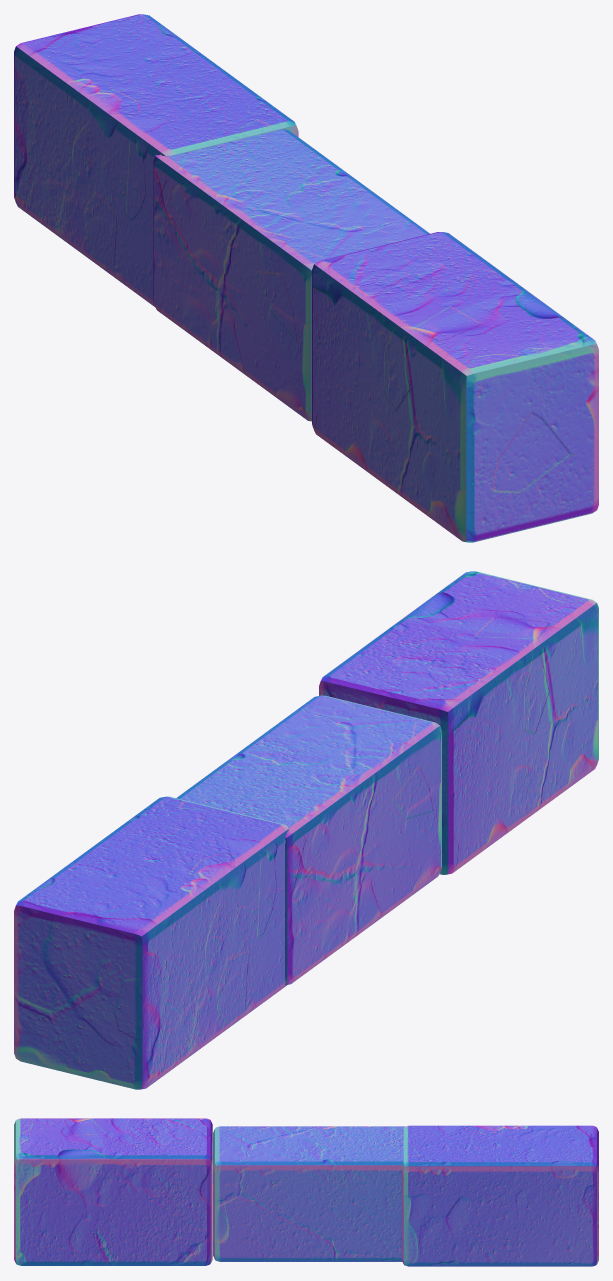
File: Dungeon_CeilingWallGlue.fbx
3 views of the same model, one above another, from view 1: azimuth 30°, elevation 25°; view 2: azimuth 150°, elevation 25°; view 3: azimuth 270°, elevation 25° (orthographic). The views are drawn at different scales.
Parts seen in each view (by area): view 1: MeshHp; view 2: MeshHp; view 3: MeshHp.
Part boxes in pixels (<box>): MeshHp: <box>14,14,598,542</box>; MeshHp: <box>14,571,598,1089</box>; MeshHp: <box>14,1118,598,1266</box>.
Bounding box in the file's own units: 0.7713 × 0.8893 × 4.28.
Materials: 1 (1 with a texture image).
